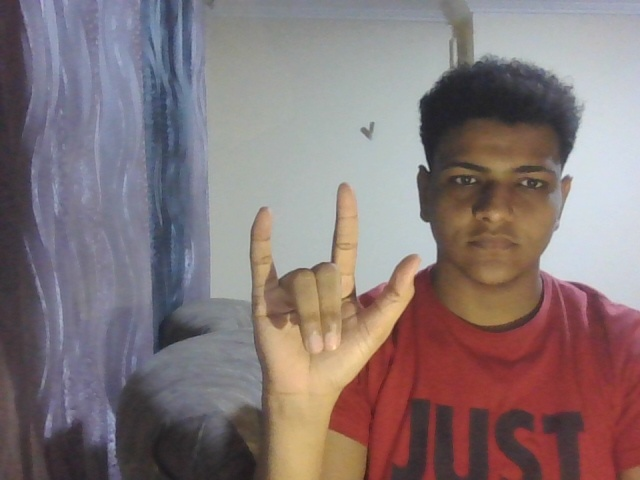iloveyou: (235, 175, 427, 398)
